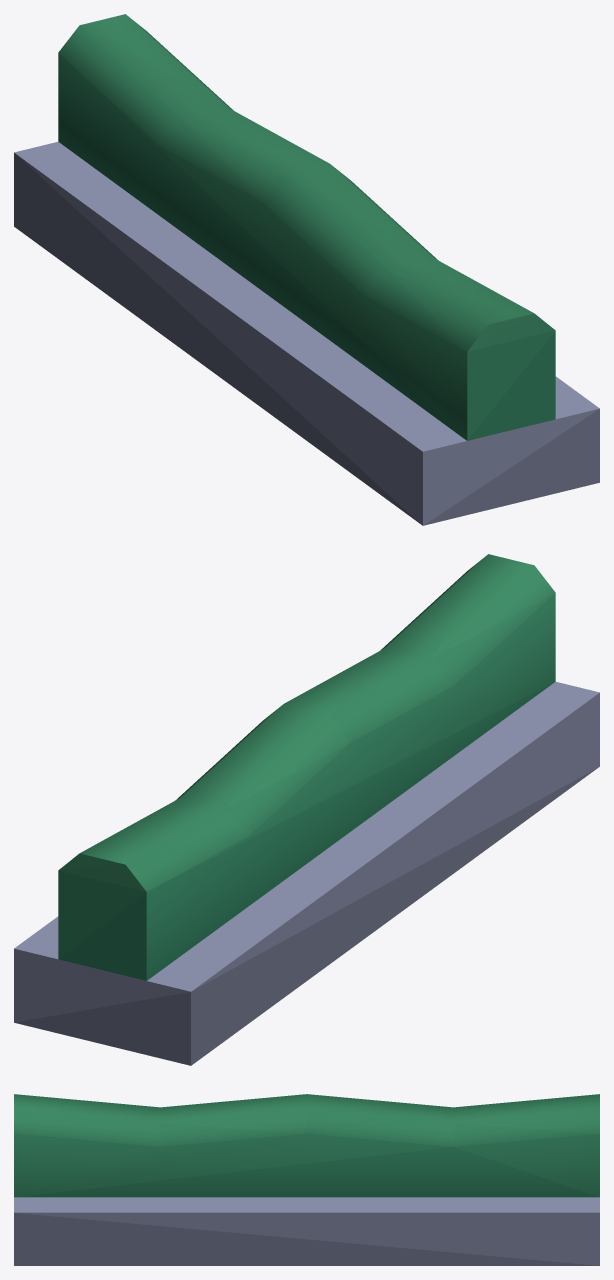
File: fantasytown_hedge.glb
The picture shows the model from 3 angles, top to bottom: view 1: azimuth 30°, elevation 25°; view 2: azimuth 150°, elevation 25°; view 3: azimuth 270°, elevation 25°; orthographic projection. The views are drawn at different scales.
Visible parts, largest first — view 1: fantasytown_hedge; view 2: fantasytown_hedge; view 3: fantasytown_hedge.
Boxes of the visible parts, <box> form: fantasytown_hedge: <box>14,14,599,525</box>; fantasytown_hedge: <box>14,554,599,1065</box>; fantasytown_hedge: <box>14,1094,599,1265</box>.
Bounding box in the file's own units: 0.25 × 0.25 × 1.
